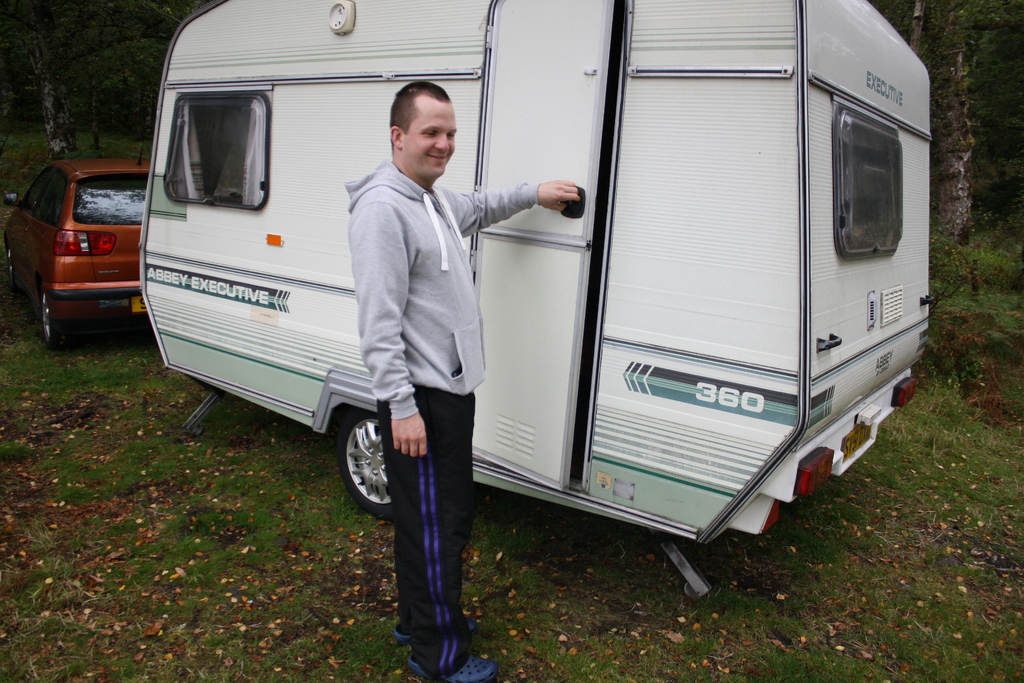Person: (340, 81, 581, 683)
